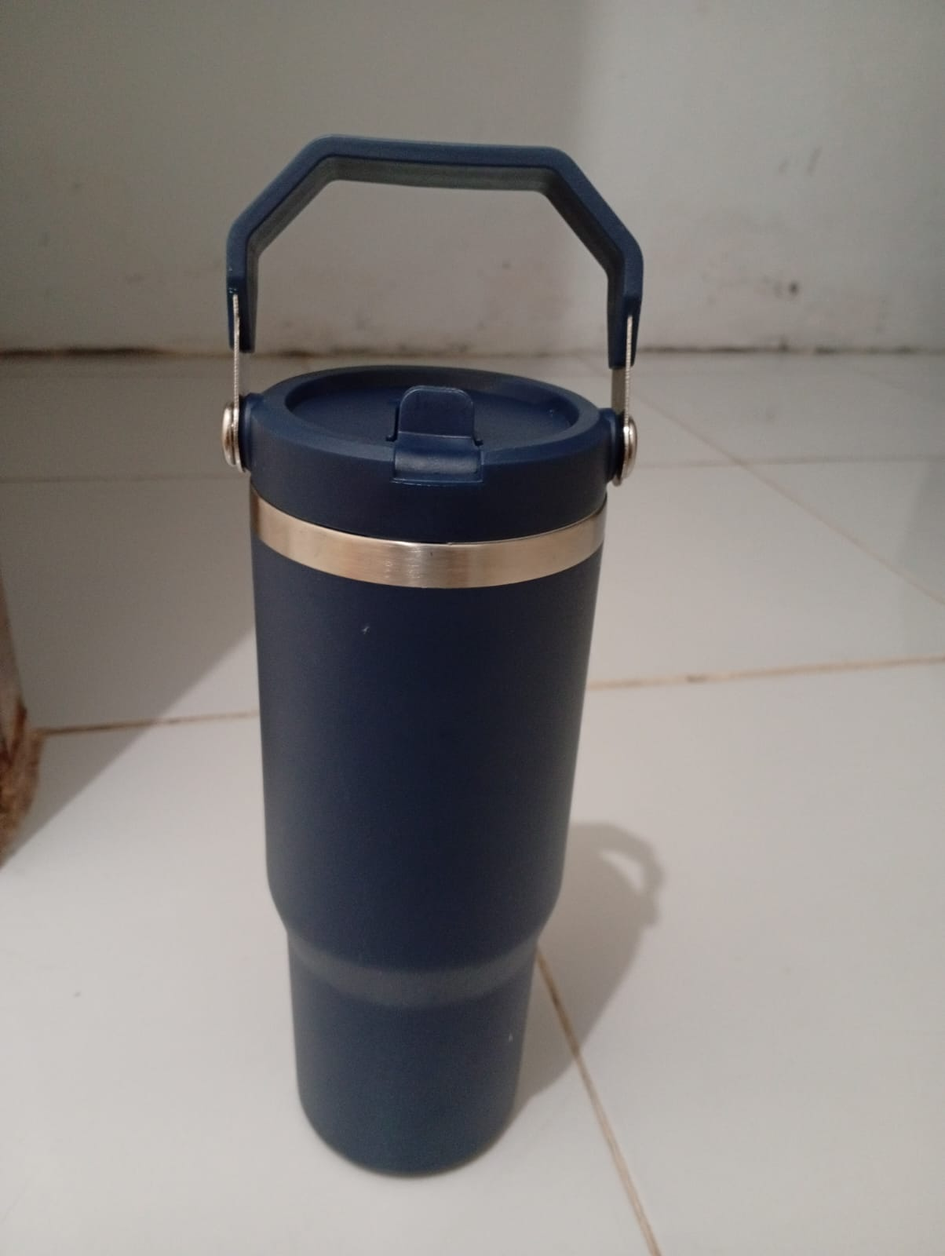Tupperware: (165, 115, 659, 1188)
